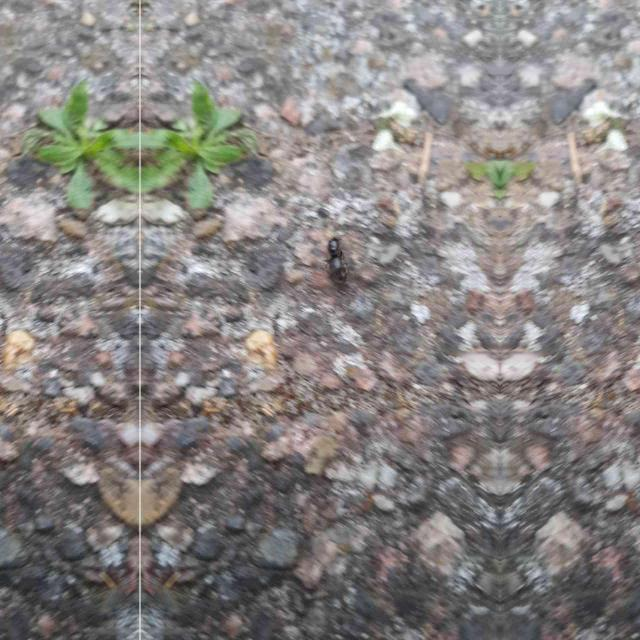Lasius: (318, 228, 356, 288)
